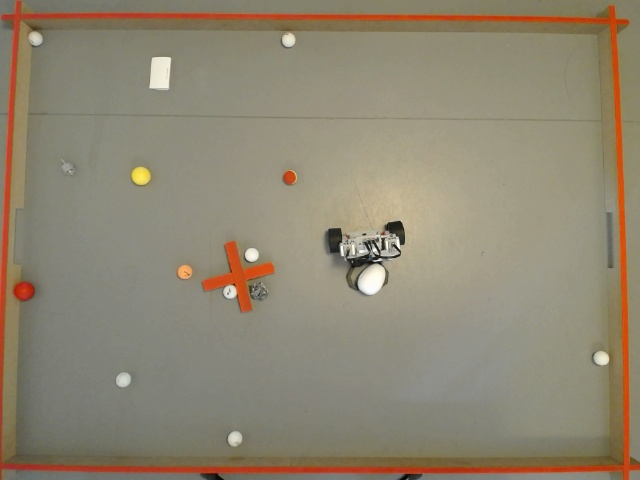big_goal: (14, 207, 24, 264), (604, 212, 614, 267)
cross: (204, 243, 273, 311)
egg: (358, 266, 384, 294)
orange: (178, 264, 191, 276)
robot: (327, 222, 406, 291)
wall: (13, 27, 608, 456)
white: (116, 372, 130, 387), (28, 30, 42, 44), (595, 353, 610, 366), (228, 434, 241, 446), (244, 249, 256, 260), (226, 285, 234, 299), (282, 35, 293, 45)
